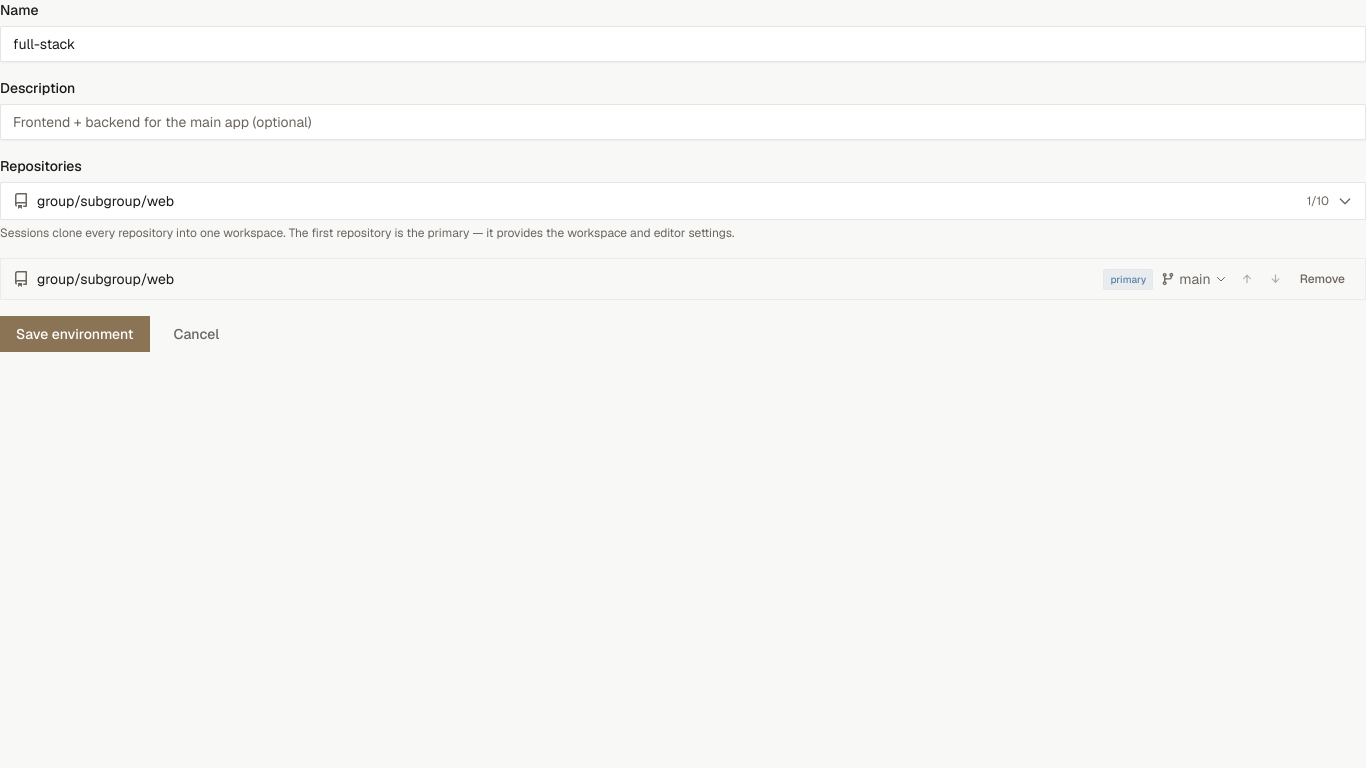
Test: EnvironmentForm › blocks selecting a repository whose name collides with a selected one
What coordinates should you click on to do the following:
click the button with aria-label "Repository selection"
I would click on:
 (106, 201)
Its box is [0,182,1365,220].
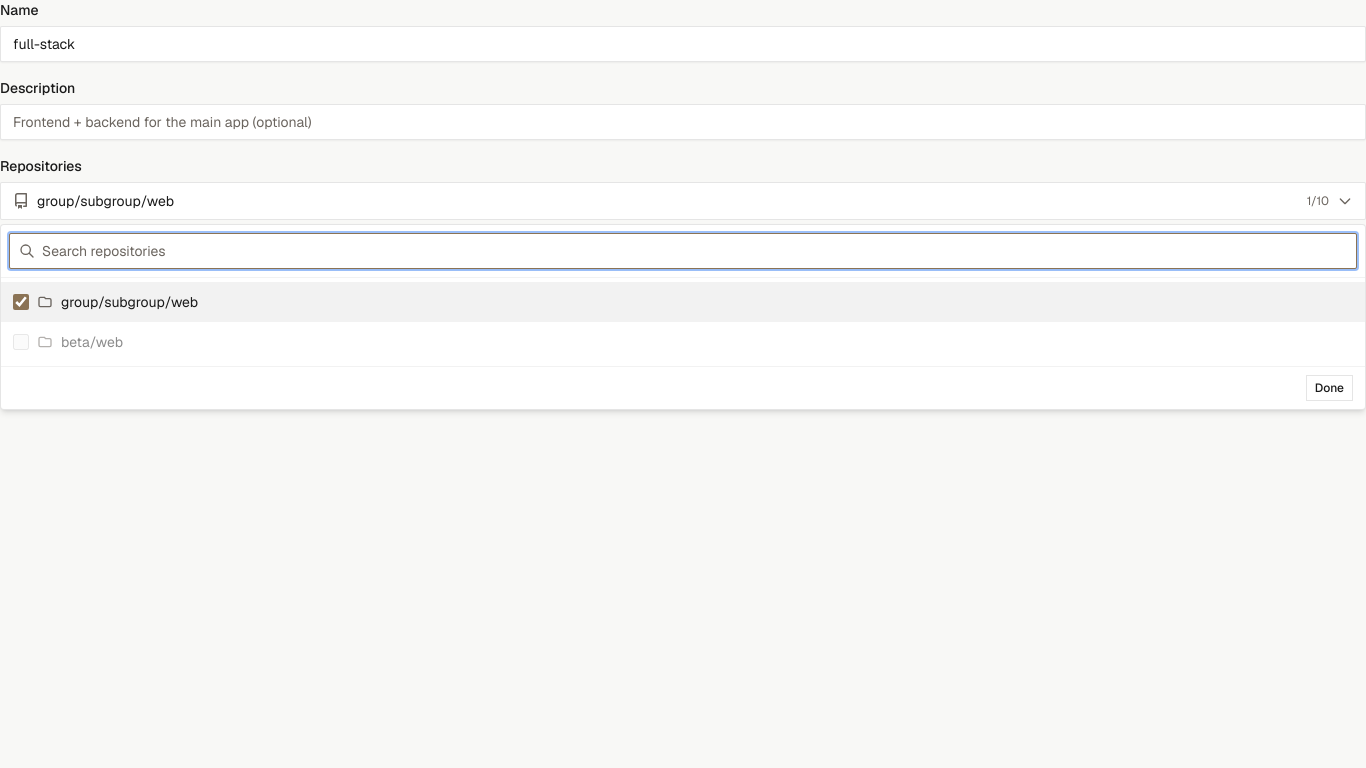
Result: the checkbox labelled "group/subgroup/web" is enabled at [13,294,29,310]
